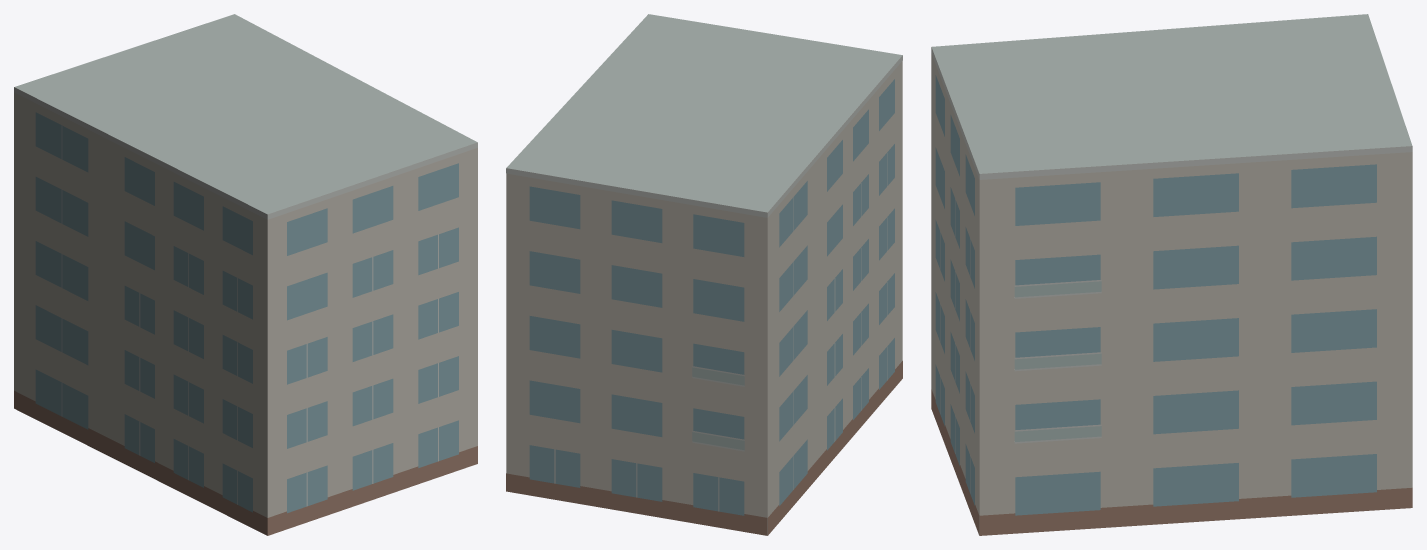
The model's file is survey-upis-32707653.glb.
3 views of the same model, side by side, from view 1: azimuth 30°, elevation 25°; view 2: azimuth 150°, elevation 25°; view 3: azimuth 270°, elevation 25° (orthographic). The views are drawn at different scales.
Visible parts, largest first — view 1: survey-upis-32707653.tmp; view 2: survey-upis-32707653.tmp; view 3: survey-upis-32707653.tmp.
Boxes of the visible parts, x1,y1,x2,y2 form: survey-upis-32707653.tmp: (14,14,477,535); survey-upis-32707653.tmp: (506,14,902,535); survey-upis-32707653.tmp: (931,14,1412,535).
Bounding box in the file's own units: 13.94 × 14.7 × 17.72.
